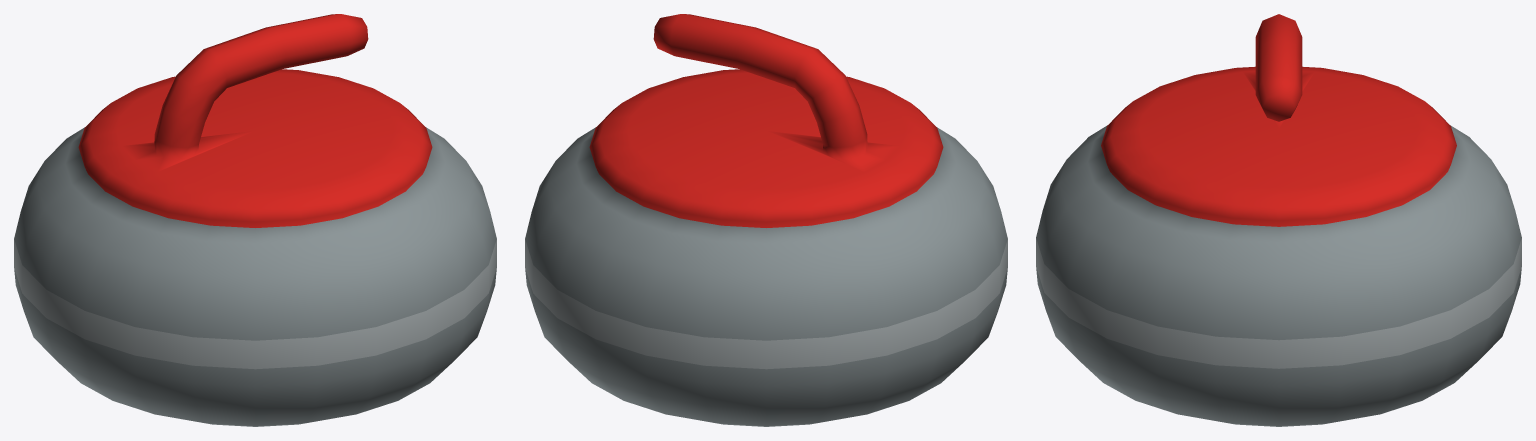
Rendered from NEW_RECOVERY_098_LOD2.glb.
3 renders of one model, left to right at view 1: azimuth 30°, elevation 25°; view 2: azimuth 150°, elevation 25°; view 3: azimuth 270°, elevation 25°, orthographic.
Visible parts, largest first — view 1: Curling stone | fused stone and raised gooseneck handle; view 2: Curling stone | fused stone and raised gooseneck handle; view 3: Curling stone | fused stone and raised gooseneck handle.
Part boxes in pixels (x1,y1,x2,y2): Curling stone | fused stone and raised gooseneck handle: (14, 14, 496, 426); Curling stone | fused stone and raised gooseneck handle: (525, 14, 1007, 426); Curling stone | fused stone and raised gooseneck handle: (1036, 14, 1521, 426).
Size of the model in its own units: 0.292 by 0.221 by 0.292.
